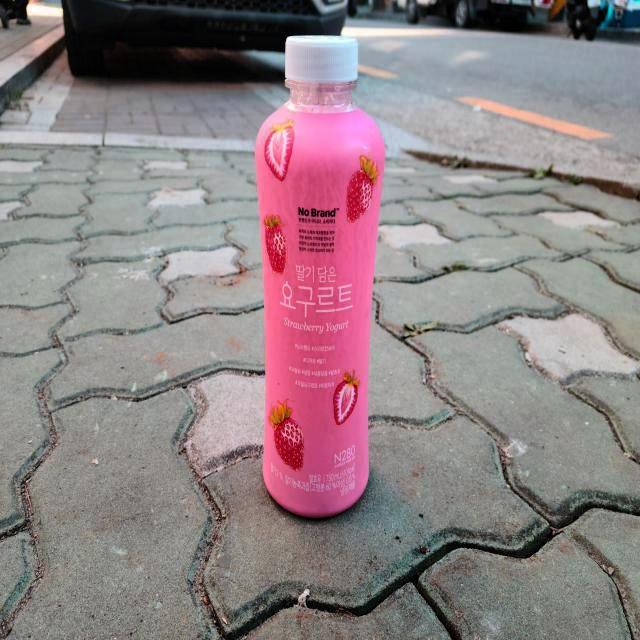bottle: (255, 34, 386, 520)
